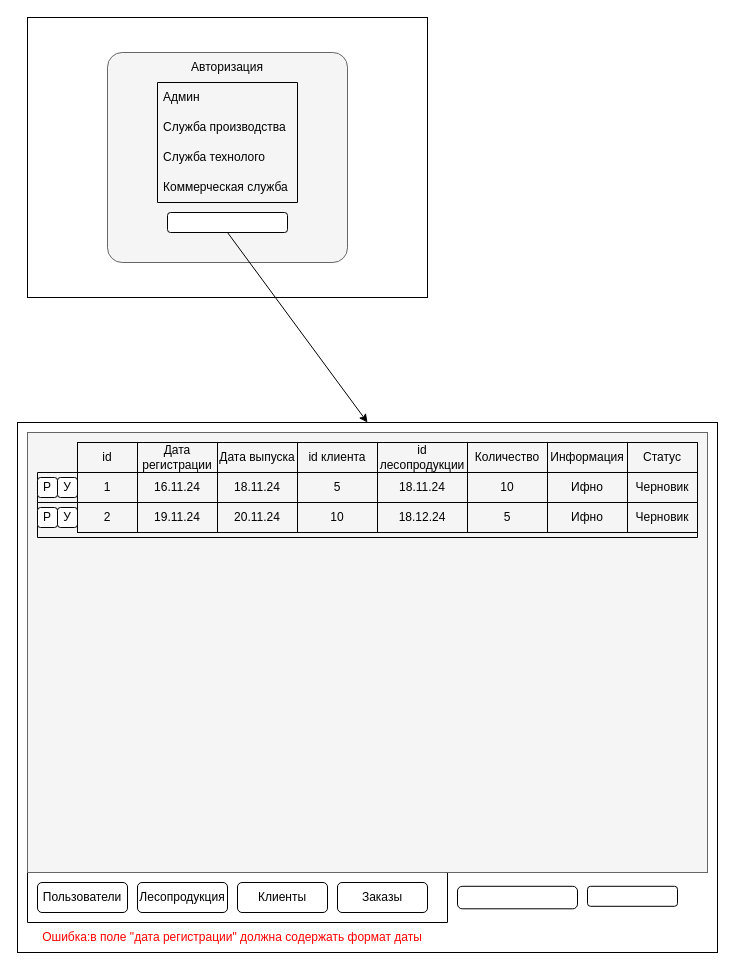
Image size: 735x970. Some labels were removed from this diagram. The centre of each missing label's shape, as x and y in pixels:
"Войти" goes at [227,222].
"Добавить строку" goes at [517,897].
"Сохранить в бд" goes at [632,895].
